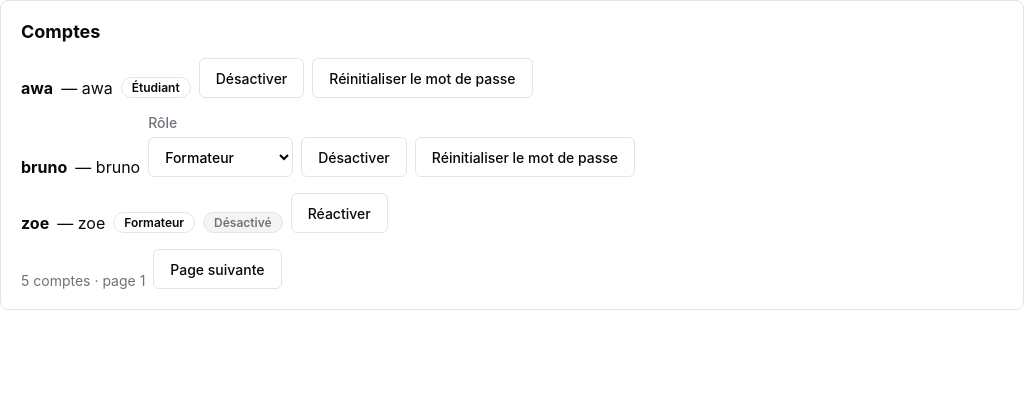
ListeComptesComponent (SF-20, #138) › propose de réactiver un compte désactivé et envoie le compte entier, actif
Click the button "Réactiver".
click(339, 213)  # box [291,193,388,233]
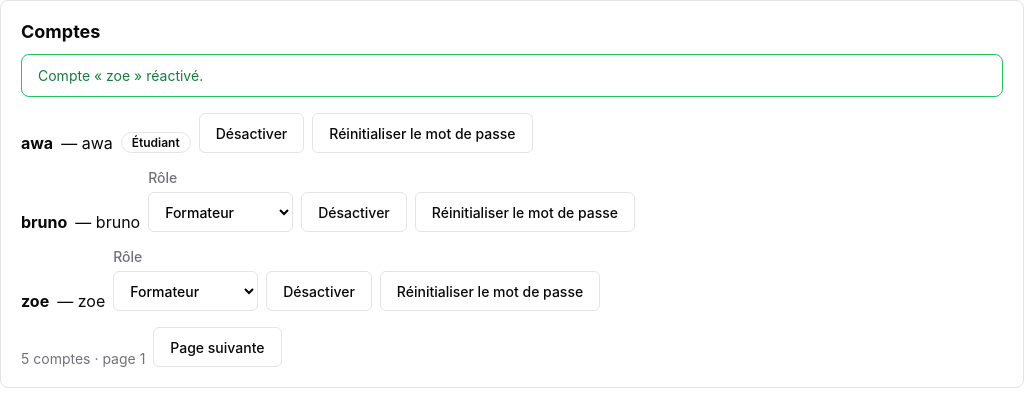
Expected: the text "Compte « zoe » réactivé." is shown, [21,54,1003,97]
Expected: the button "Désactiver" in the row of "— zoe" is shown, [266,271,372,311]
